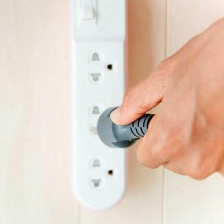three_eye_plug: (66, 0, 132, 216)
